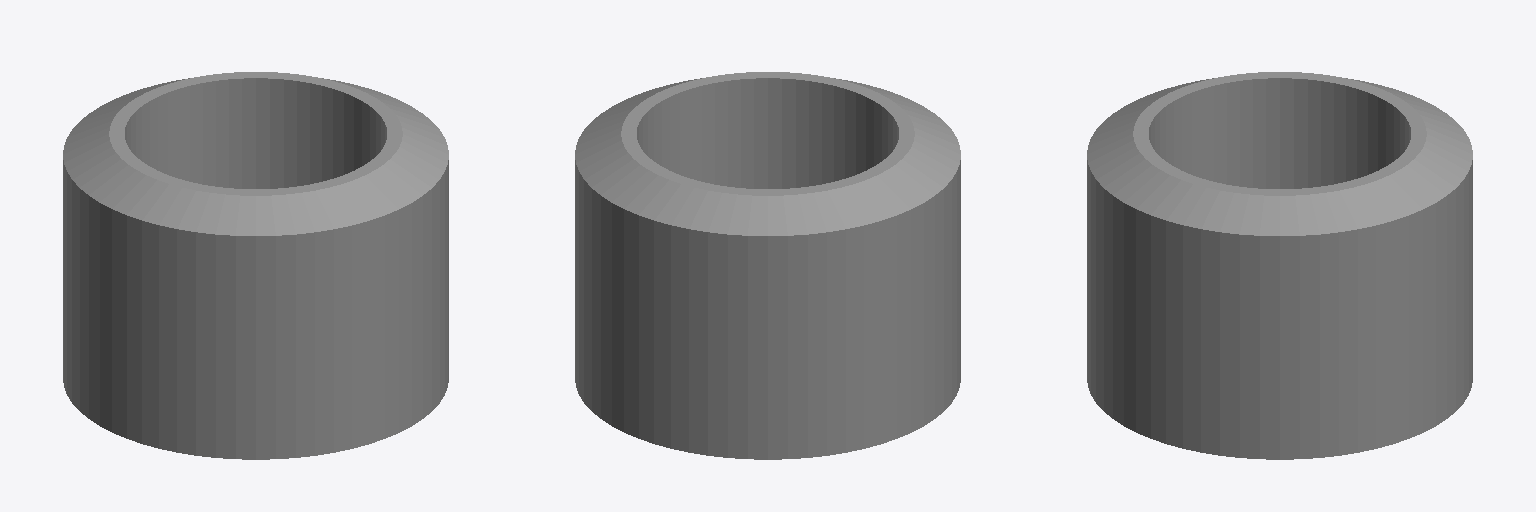
File: centerled.obj
3 renders of one model, left to right at view 1: azimuth 30°, elevation 25°; view 2: azimuth 150°, elevation 25°; view 3: azimuth 270°, elevation 25°, orthographic.
Visible parts, largest first — view 1: Cube; view 2: Cube; view 3: Cube.
Boxes of the visible parts, x1,y1,x2,y2 form: Cube: [63, 72, 448, 459]; Cube: [575, 72, 960, 459]; Cube: [1087, 72, 1472, 459].
Bounding box in the file's own units: 5.01 × 3.5 × 5.01.